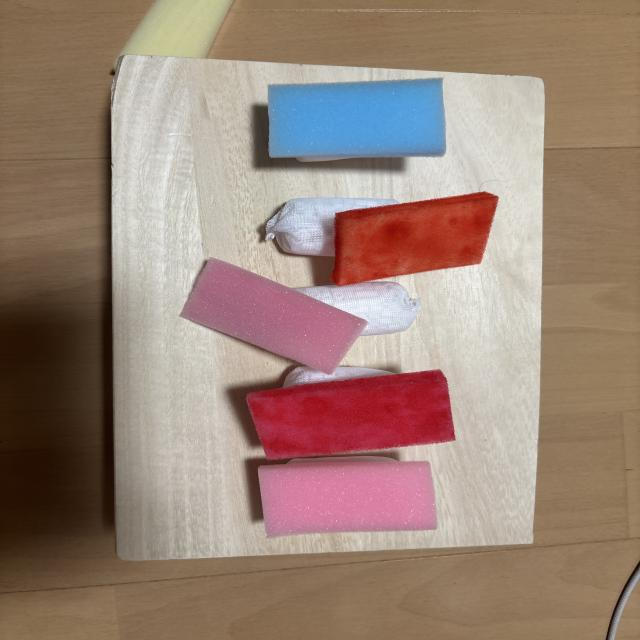NG: (181, 258, 421, 374), (266, 192, 498, 286), (246, 366, 456, 459)
ika: (268, 78, 446, 161)
tai: (258, 457, 437, 537)
